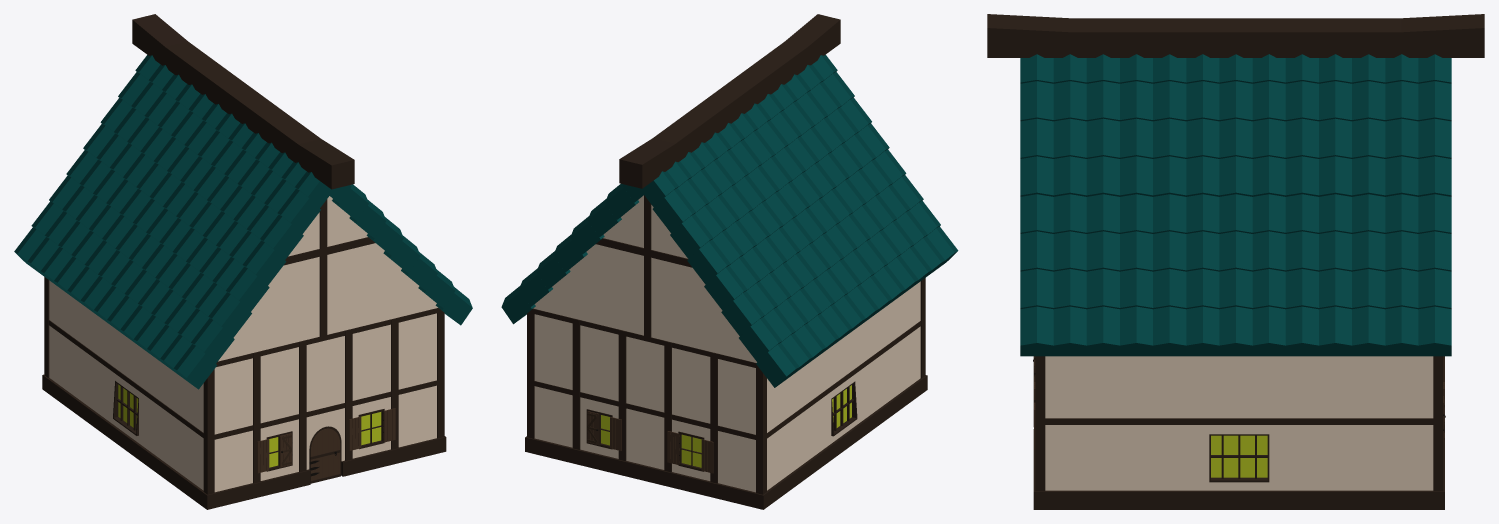
The model's file is House.fbx.
3 renders of one model, left to right at view 1: azimuth 30°, elevation 25°; view 2: azimuth 150°, elevation 25°; view 3: azimuth 270°, elevation 25°, orthographic. The views are drawn at different scales.
Visible parts, largest first — view 1: Cube, Cube.028, Cube.007, Wall2X.045, Wall2XCorner.005, Wall2X.032, Wall2XCorner.004, WindowsDouble.003, Wall2XCorner.003, Wall2X.003, Wall2X.010, Wall2XCorner.002 (+15 smaller); view 2: Cube, Cube.028, Cube.007, Wall2X.045, Wall2XCorner.006, Wall2X.032, Wall2XCorner.008, WindowsDouble.003, Wall2XCorner.014, Wall2X.030, Wall2X.033, Wall2X.025 (+14 smaller); view 3: Cube, Cube.007, WindowsDouble.001, Wall2X.045, Wall2X.009, Wall2X.038, Wall2XCorner.003, Wall2XCorner.014, Wall2X.005, Wall2X.008, Wall2X.011, Wall2X.037 (+3 smaller).
Boxes of the visible parts, x1,y1,x2,y2 form: Cube: (14, 55, 472, 389); Cube.028: (218, 196, 437, 361); Cube.007: (132, 14, 354, 189); Wall2X.045: (44, 277, 444, 494); Wall2XCorner.005: (178, 421, 257, 509); Wall2X.032: (253, 318, 398, 483); Wall2XCorner.004: (180, 358, 252, 434); WindowsDouble.003: (98, 363, 153, 468); Wall2XCorner.003: (395, 385, 446, 463); Wall2X.003: (260, 347, 298, 423); Wall2X.010: (352, 324, 390, 400); Wall2XCorner.002: (398, 313, 436, 389); Cube: (501, 54, 958, 387); Cube.028: (533, 195, 756, 362); Cube.007: (619, 14, 840, 188); Wall2X.045: (527, 278, 925, 494); Wall2XCorner.006: (713, 422, 792, 509); Wall2X.032: (572, 318, 717, 483); Wall2XCorner.008: (718, 359, 790, 434); WindowsDouble.003: (816, 364, 871, 468); Wall2XCorner.014: (525, 386, 575, 463); Wall2X.030: (621, 408, 667, 486); Wall2X.033: (580, 325, 618, 401); Wall2X.025: (672, 347, 710, 423); Cube: (1020, 54, 1451, 356); Cube.007: (987, 14, 1484, 57); WindowsDouble.001: (1173, 425, 1305, 509); Wall2X.045: (1035, 356, 1443, 491); Wall2X.009: (1106, 425, 1172, 509); Wall2X.038: (1305, 425, 1371, 509); Wall2XCorner.003: (1033, 425, 1106, 509); Wall2XCorner.014: (1372, 425, 1444, 509); Wall2X.005: (1239, 356, 1305, 418); Wall2X.008: (1106, 356, 1172, 418); Wall2X.011: (1173, 356, 1239, 418); Wall2X.037: (1305, 356, 1371, 418).
Size of the model in its own units: 1270 by 1380 by 1500.
